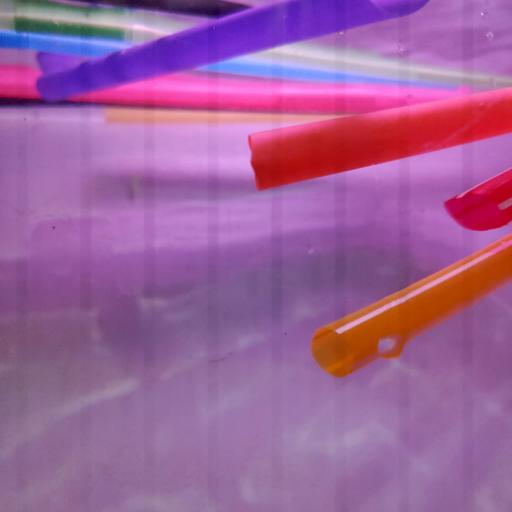plastic_straw: (34, 0, 425, 103), (0, 28, 458, 94), (311, 236, 512, 382), (120, 20, 512, 94), (245, 86, 512, 191), (3, 62, 469, 113), (443, 169, 512, 236)
